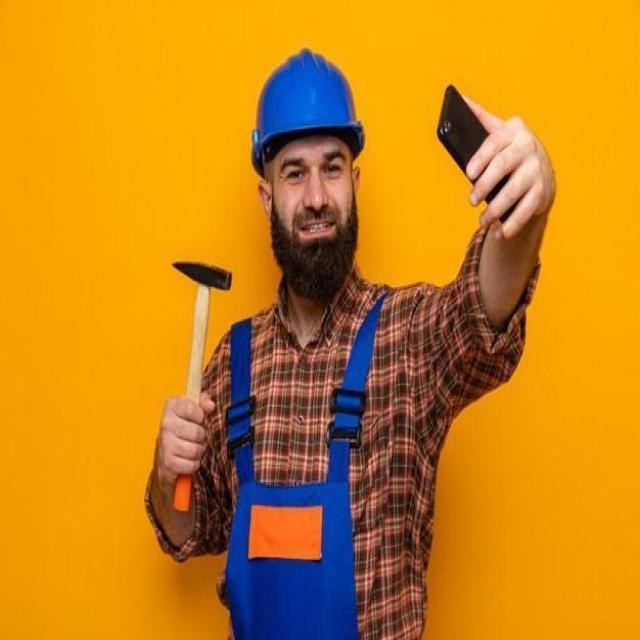hat: (249, 46, 365, 160)
